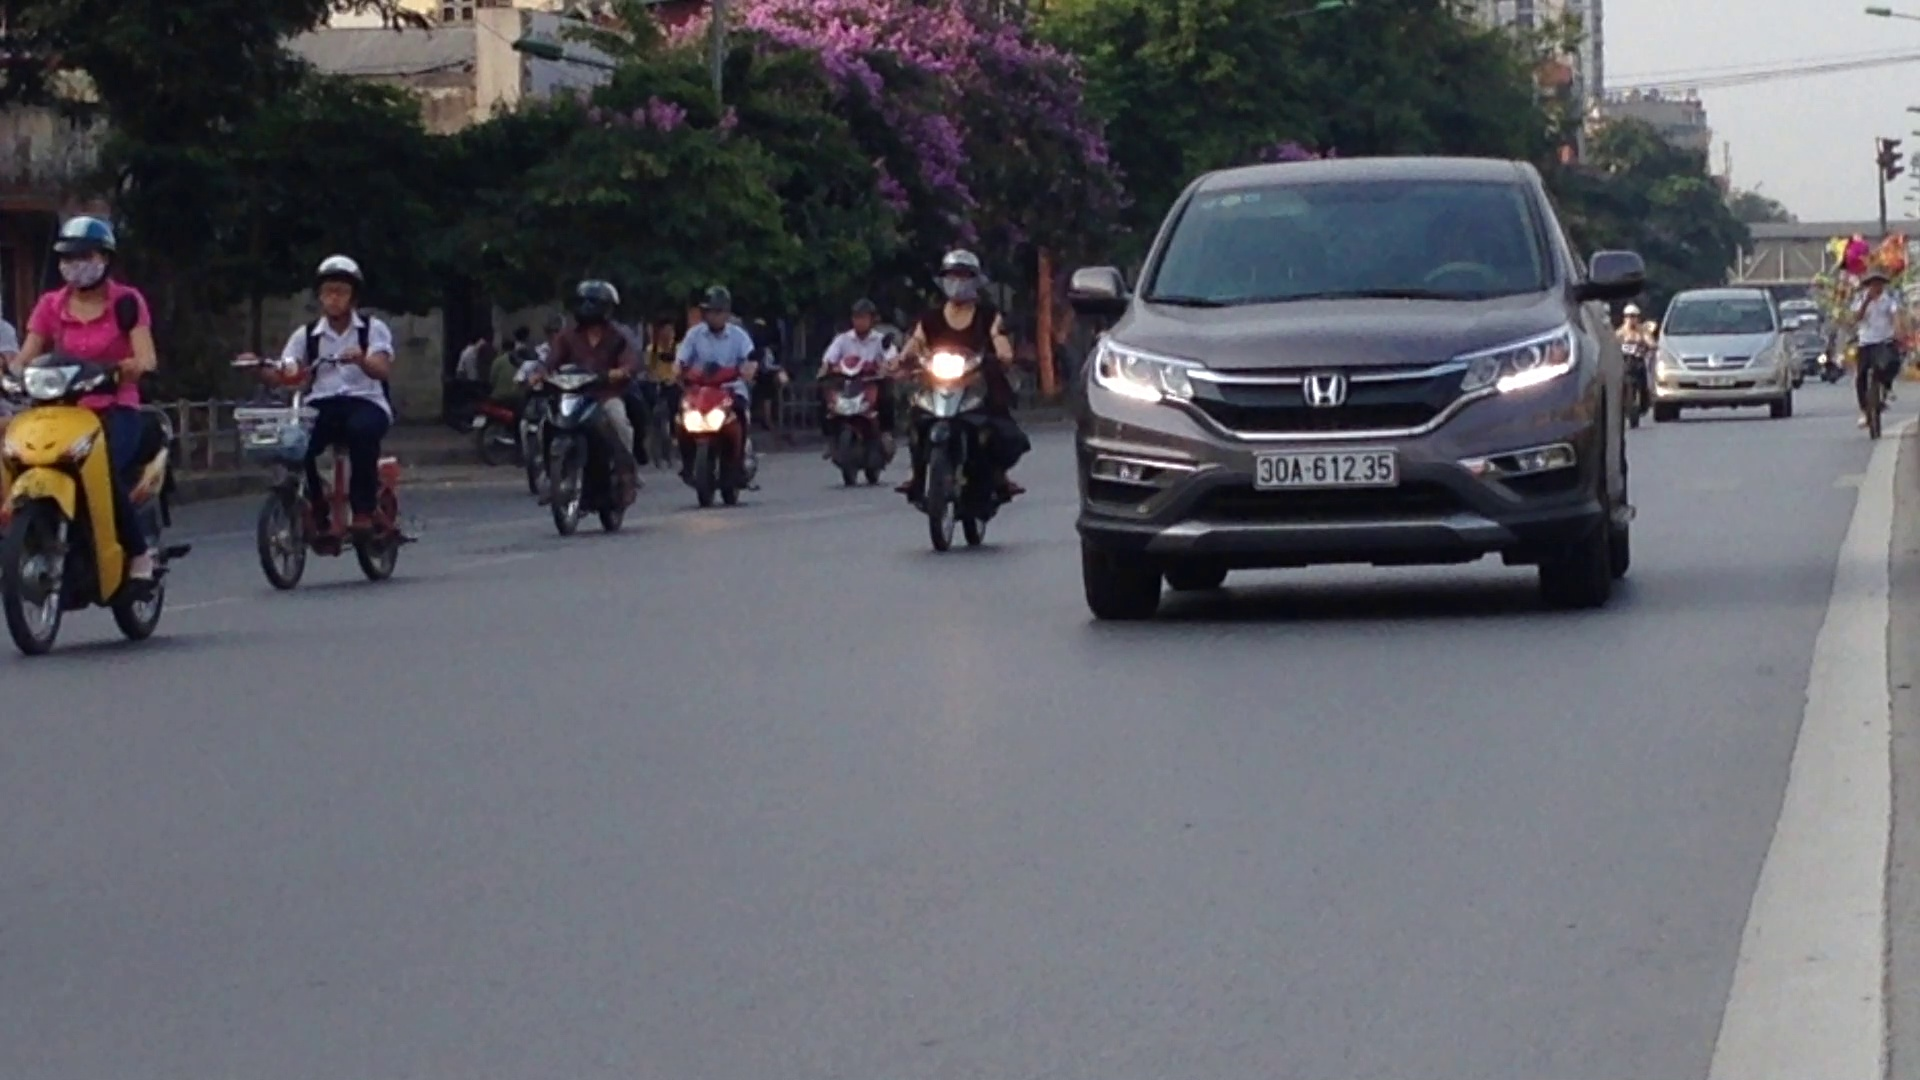person: (1248, 441, 1403, 490)
